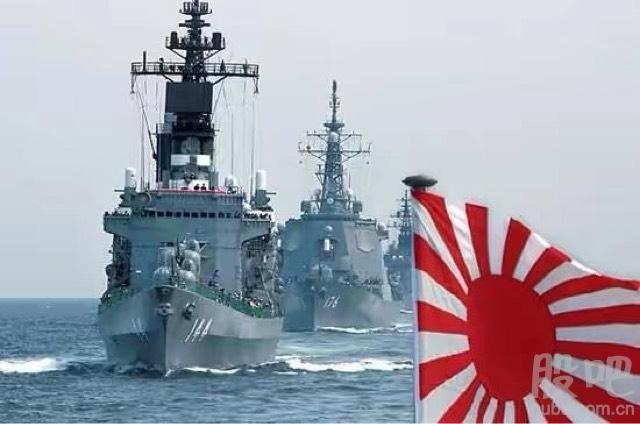warship: (95, 1, 285, 376), (271, 80, 414, 332)
